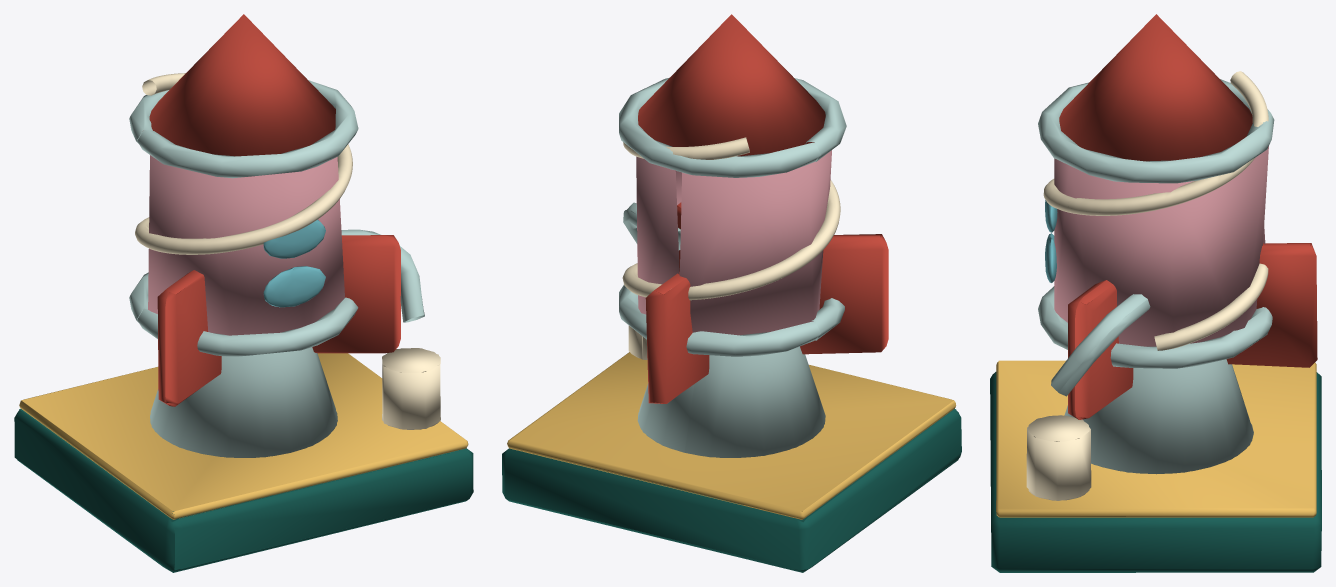
3 renders of one model, left to right at view 1: azimuth 30°, elevation 25°; view 2: azimuth 150°, elevation 25°; view 3: azimuth 270°, elevation 25°, orthographic. The views are drawn at different scales.
Parts seen in each view (by area): view 1: Rocket cone, Brass welt, Chrome rocket foot, Jade footing, Drink chamber, Cream helix, Catch cup, Porthole; view 2: Brass welt, Rocket cone, Chrome rocket foot, Drink chamber, Jade footing, Cream helix; view 3: Chrome rocket foot, Rocket cone, Brass welt, Drink chamber, Jade footing, Cream helix, Catch cup, Porthole.
Boxes of the visible parts, <box> form: Rocket cone: <box>149,14,400,406</box>; Brass welt: <box>19,353,468,519</box>; Chrome rocket foot: <box>129,80,424,457</box>; Jade footing: <box>14,408,473,572</box>; Drink chamber: <box>148,155,344,335</box>; Cream helix: <box>135,73,352,254</box>; Catch cup: <box>382,348,440,429</box>; Porthole: <box>263,219,325,307</box>; Brass welt: <box>507,352,956,519</box>; Rocket cone: <box>638,14,888,403</box>; Chrome rocket foot: <box>619,77,846,457</box>; Drink chamber: <box>636,150,831,335</box>; Jade footing: <box>502,408,961,572</box>; Cream helix: <box>622,137,840,300</box>; Chrome rocket foot: <box>1038,79,1274,474</box>; Rocket cone: <box>1059,14,1317,419</box>; Brass welt: <box>996,360,1316,517</box>; Drink chamber: <box>1054,146,1268,346</box>; Jade footing: <box>990,372,1321,572</box>; Cream helix: <box>1043,71,1268,350</box>; Catch cup: <box>1026,415,1091,500</box>; Porthole: <box>1045,200,1057,282</box>.
Bounding box in the file's own units: 0.7947 × 1.15 × 0.7144.
